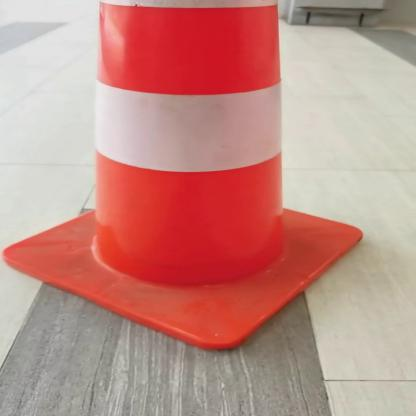cone: (0, 0, 372, 355)
